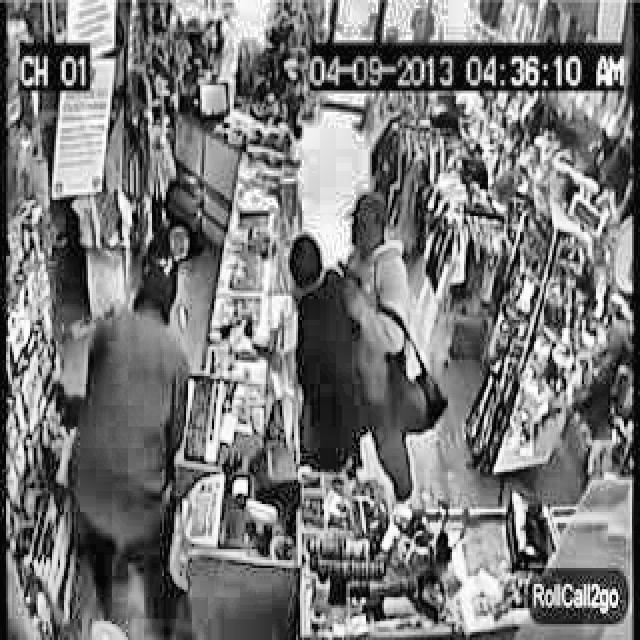robbery: (283, 187, 455, 509)
